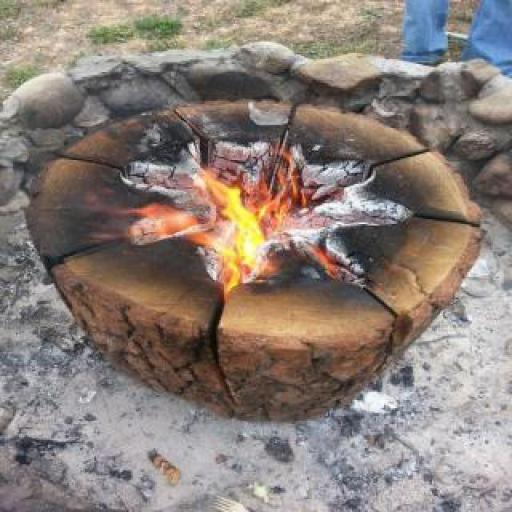smoke: (184, 155, 282, 291)
